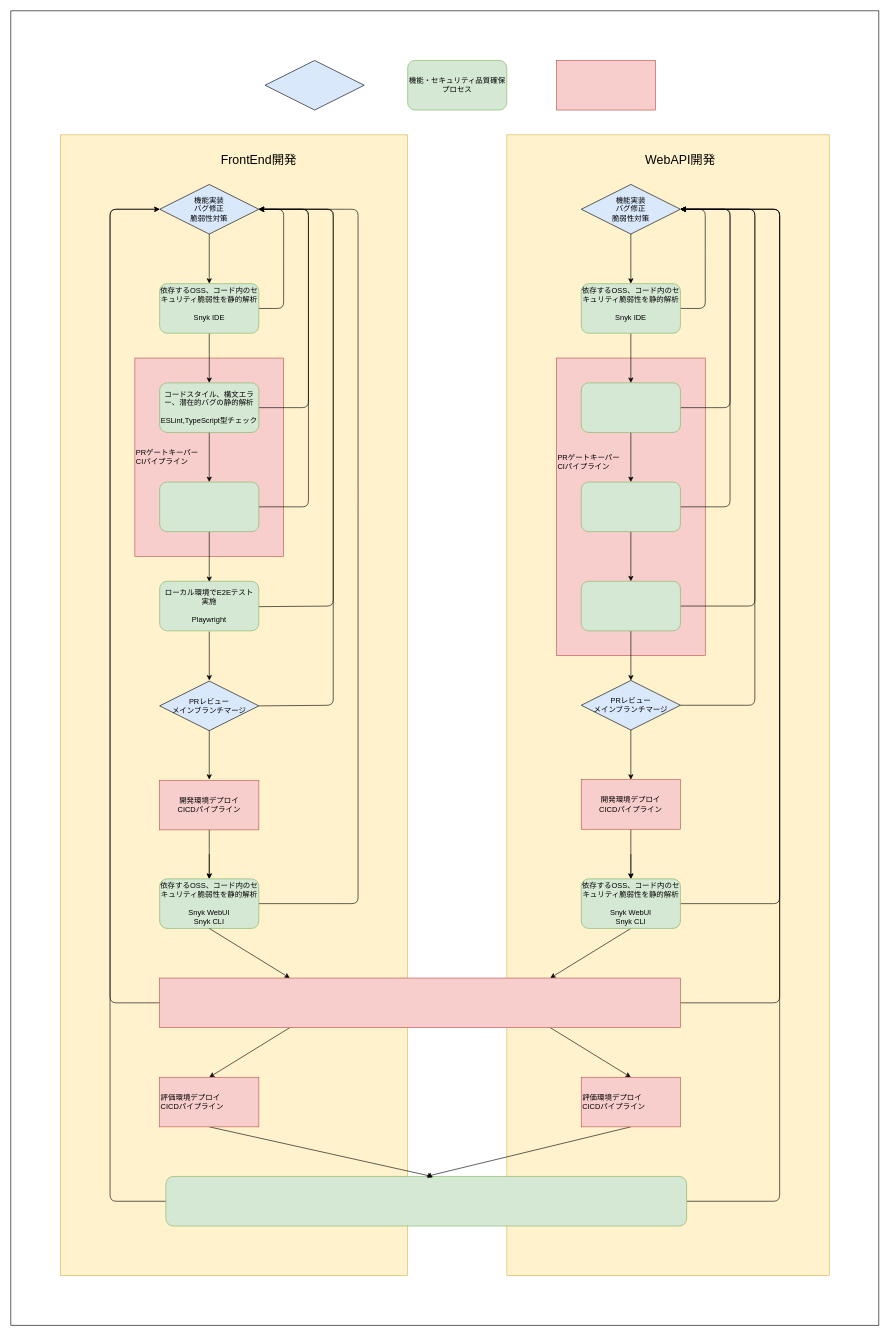
Some shapes in this 890 by 1336 pixel diagram are drawn without their labels. Each missing label, with the centre of its shape:
コードスタイル、構文エラー、潜在的バグの静的解析 StyleCop: pixel 630 407
パイプライン: pixel 606 85
単体テスト 内部結合テスト Jest,React Testing Library: pixel 209 506
単体テスト 内部結合テスト XUnit,Moq: pixel 630 506
外部結合テスト Postman,Newman: pixel 630 606
総合テスト 第三者含めて実施: pixel 426 1201
評価環境デプロイデートキーパー 主要なユーザー操作を自動E2Eテスト( Playwright): pixel 419 1002
開発プロセス: pixel 314 85
